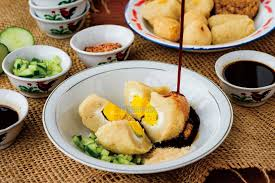Pempek kapal selam: (71, 79, 194, 155)
